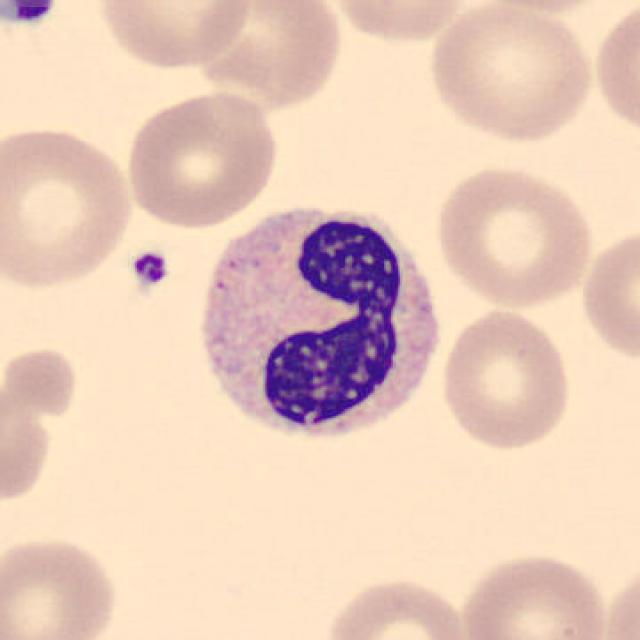Neutrophil: (188, 189, 454, 453)
Platelets: (128, 247, 172, 293), (4, 0, 61, 28)
RBC: (423, 2, 599, 146), (430, 162, 596, 310), (0, 120, 139, 294), (122, 85, 282, 231), (436, 305, 576, 453), (190, 0, 348, 111), (455, 548, 613, 640), (0, 340, 84, 508), (0, 530, 122, 640), (92, 0, 257, 72), (322, 573, 474, 640), (576, 222, 638, 367), (318, 0, 480, 46), (590, 0, 638, 143), (599, 555, 638, 640), (464, 0, 619, 16)
